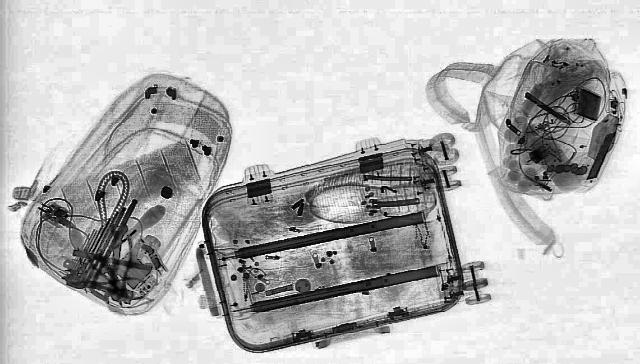Pliers: (64, 274, 146, 300)
Wrench: (102, 224, 128, 280)
